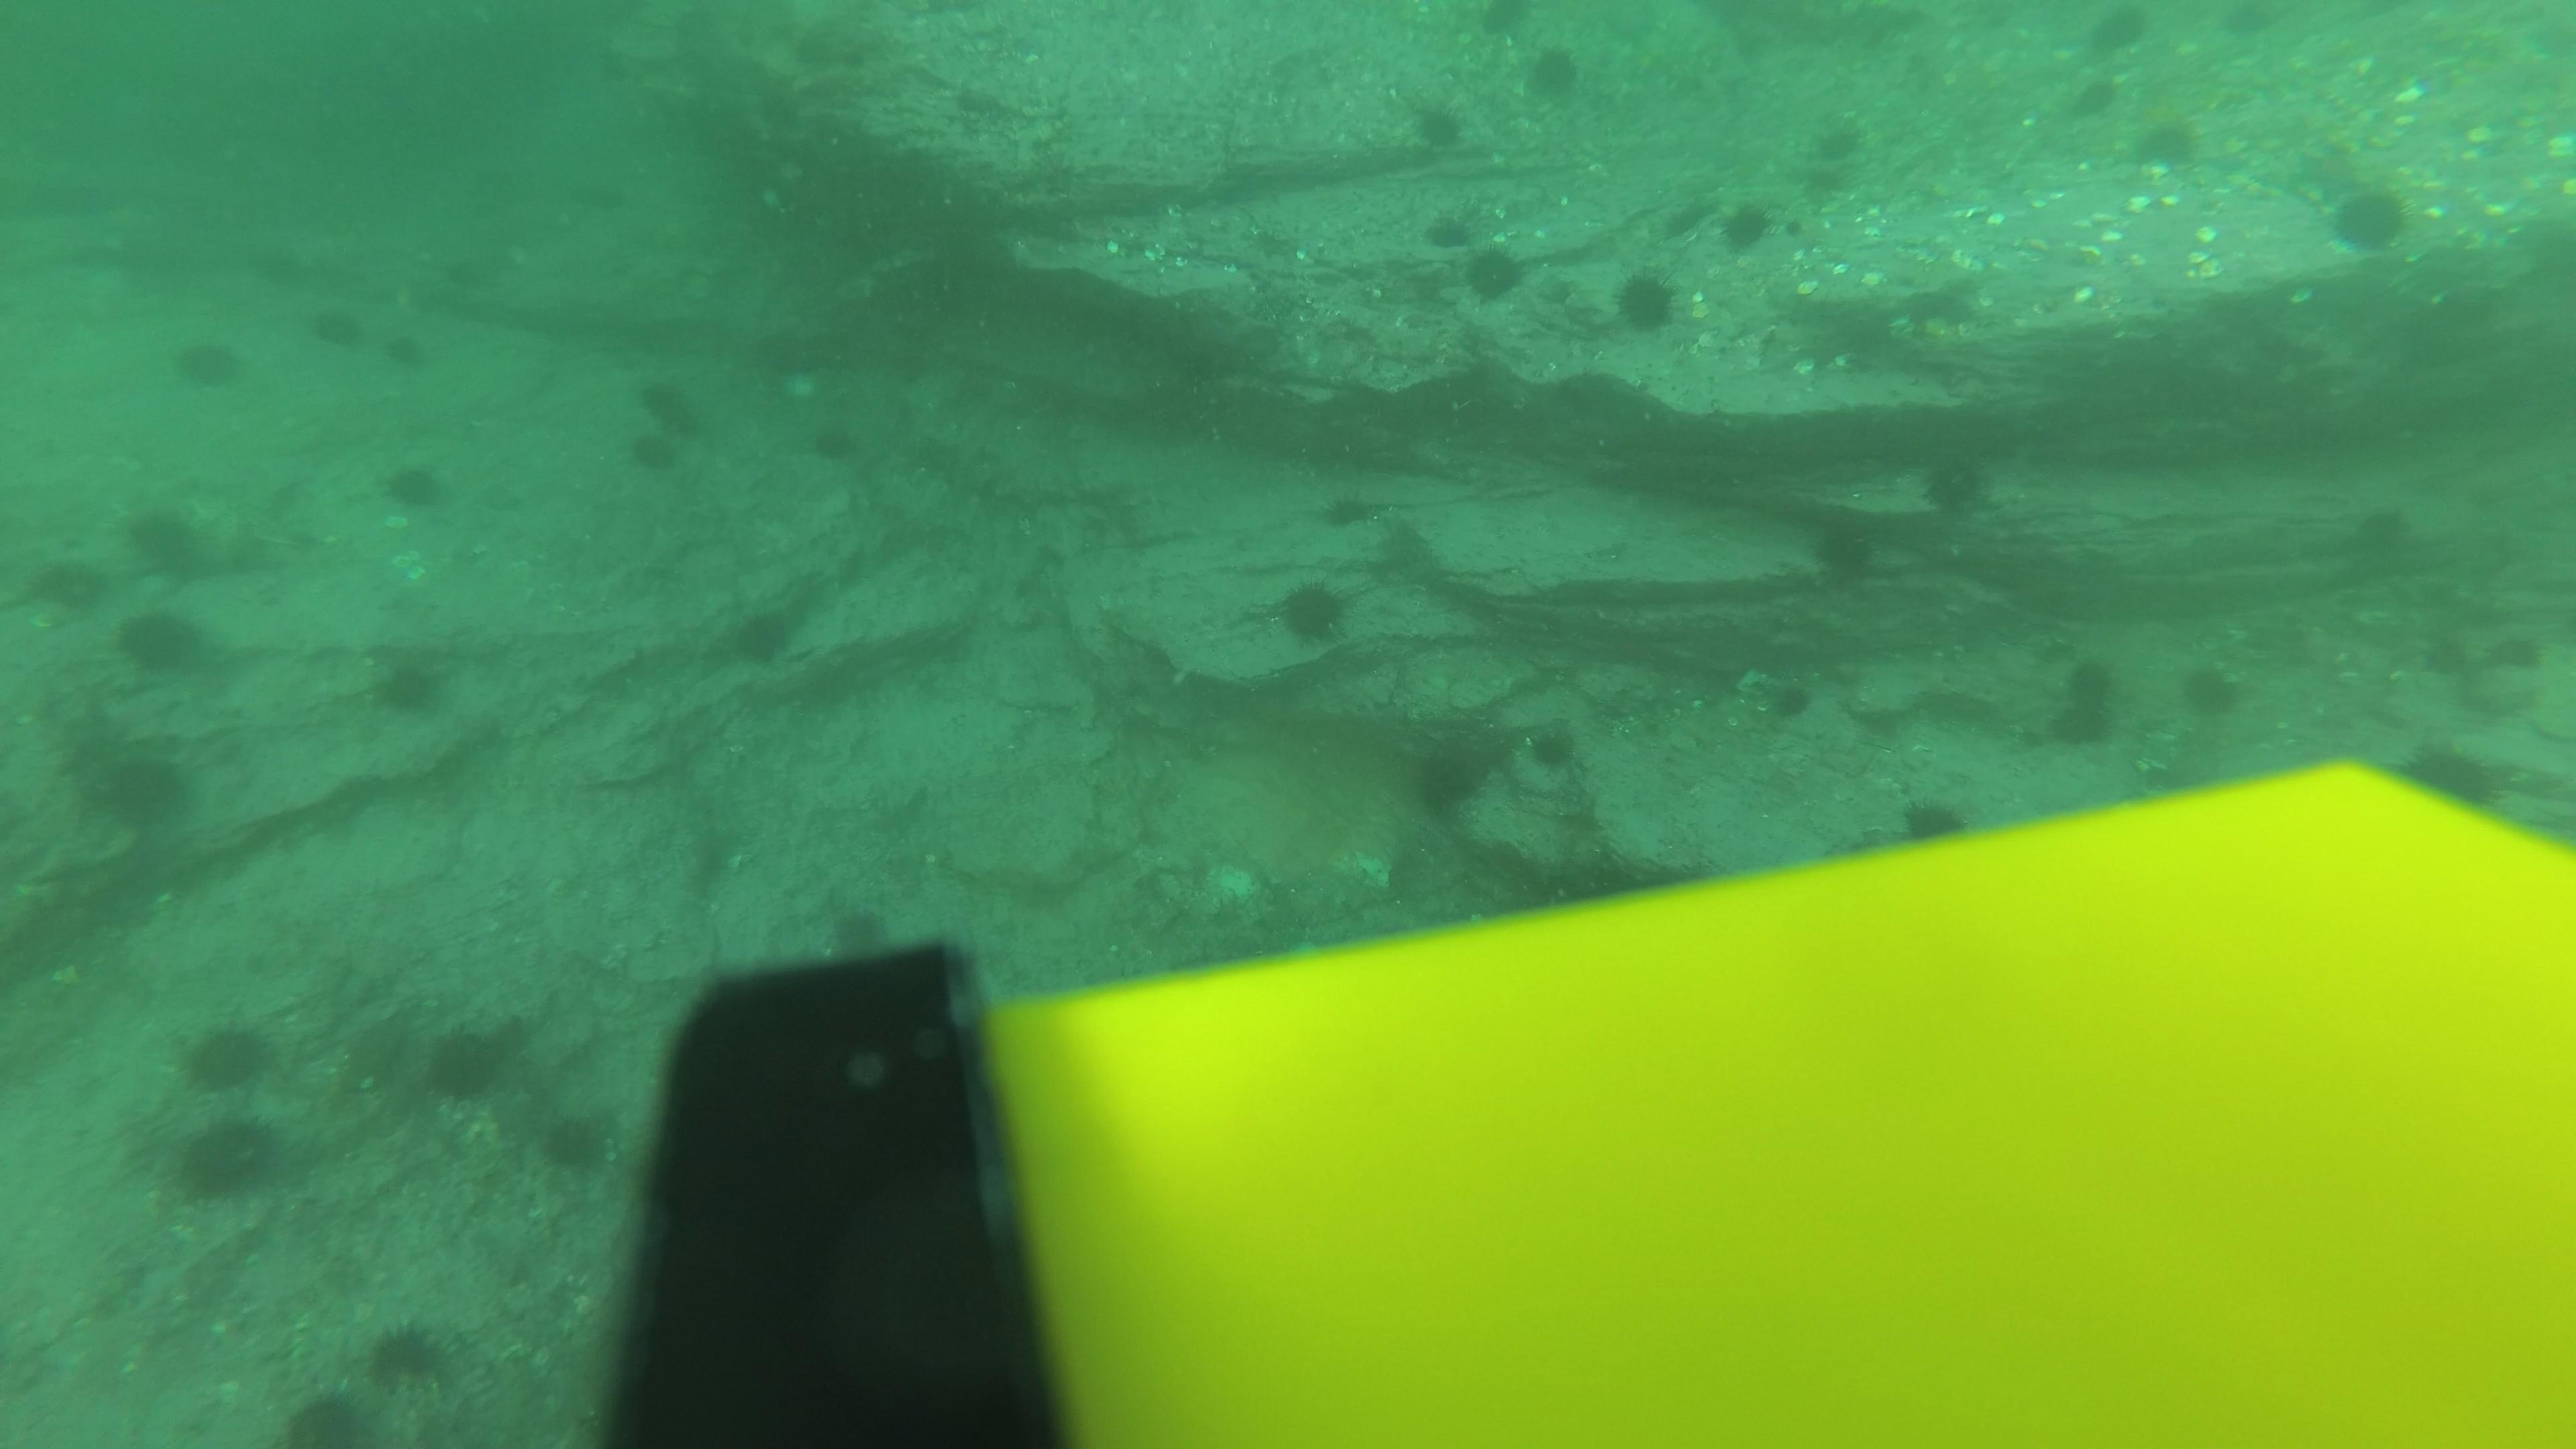echinus: (81, 740, 198, 837), (166, 1111, 281, 1207), (1401, 718, 1507, 819), (2388, 736, 2516, 819), (172, 1010, 280, 1099), (418, 1017, 517, 1108), (110, 600, 211, 681), (119, 497, 214, 582), (2323, 177, 2417, 260), (361, 1315, 456, 1396), (363, 644, 455, 725), (1267, 573, 1359, 653), (278, 1382, 377, 1449), (1803, 511, 1886, 587), (533, 1104, 616, 1180), (1914, 448, 1999, 522), (1606, 264, 1686, 340), (2173, 655, 2250, 727), (724, 600, 801, 672), (821, 899, 899, 971), (1307, 474, 1385, 547), (166, 327, 248, 396), (2125, 108, 2206, 177), (1891, 789, 1976, 853), (1454, 237, 1530, 308), (1516, 39, 1591, 110), (1739, 663, 1819, 729), (377, 453, 453, 518), (1518, 717, 1587, 780), (1714, 195, 1780, 258), (1405, 94, 1470, 156), (2482, 616, 2551, 674), (1472, 0, 1545, 55), (2054, 653, 2123, 709), (2341, 499, 2410, 556), (2082, 2, 2151, 58), (2415, 633, 2482, 690), (2058, 67, 2125, 124), (2194, 2, 2261, 58), (2038, 706, 2112, 752), (621, 375, 692, 418), (1421, 205, 1483, 253), (621, 433, 690, 476), (794, 418, 863, 460), (1812, 119, 1874, 165), (649, 405, 718, 446), (566, 170, 635, 211), (1794, 161, 1856, 205), (405, 278, 458, 318), (386, 331, 439, 370), (317, 311, 370, 350), (253, 248, 306, 287), (448, 248, 499, 287)
